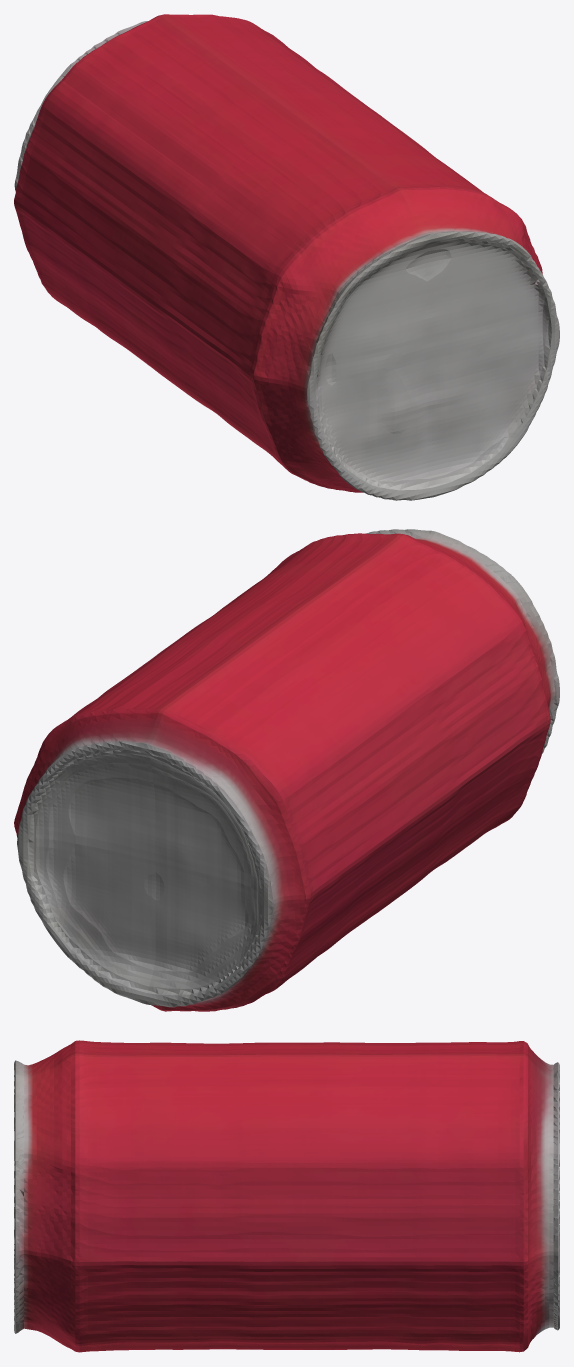
The model's file is soda-red.glb.
3 views of the same model, one above another, from view 1: azimuth 30°, elevation 25°; view 2: azimuth 150°, elevation 25°; view 3: azimuth 270°, elevation 25° (orthographic). The views are drawn at different scales.
Visible parts, largest first — view 1: crate.ply; view 2: crate.ply; view 3: crate.ply.
Part boxes in pixels (left/top/right/bottom): crate.ply: left=14, top=14, right=559, bottom=500; crate.ply: left=14, top=529, right=559, bottom=1011; crate.ply: left=14, top=1040, right=559, bottom=1352.
Bounding box in the file's own units: 1.17 × 1.13 × 1.98.
